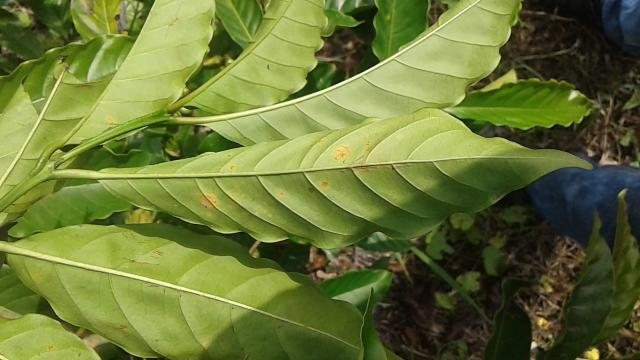rust_level_1: (96, 104, 596, 254)
